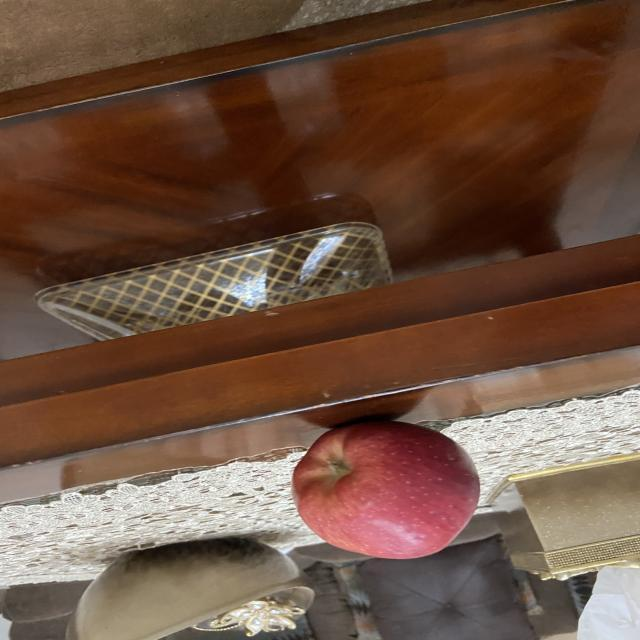apple: (295, 418, 483, 560)
